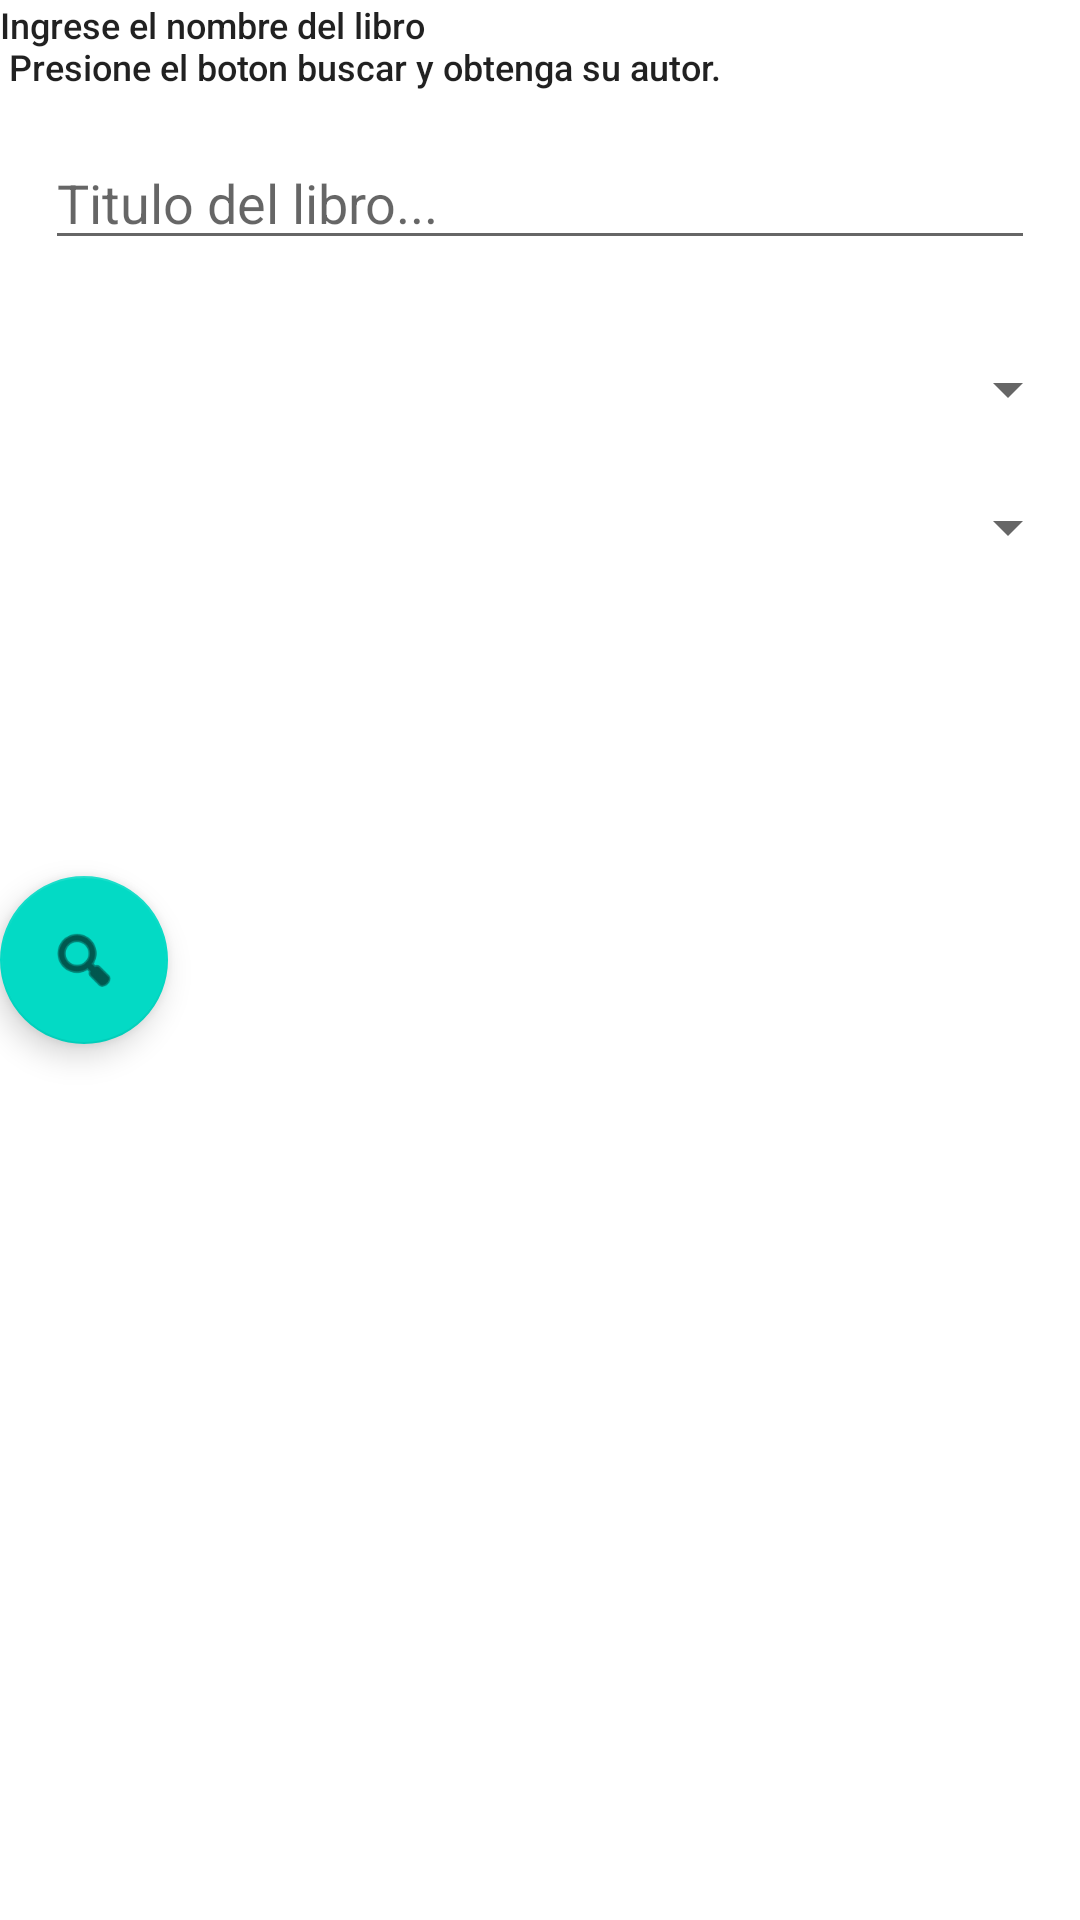

Icons on this 1080w x 1920h Android screen, each with the point to tap as point (x, y):
search: point (84, 960)
